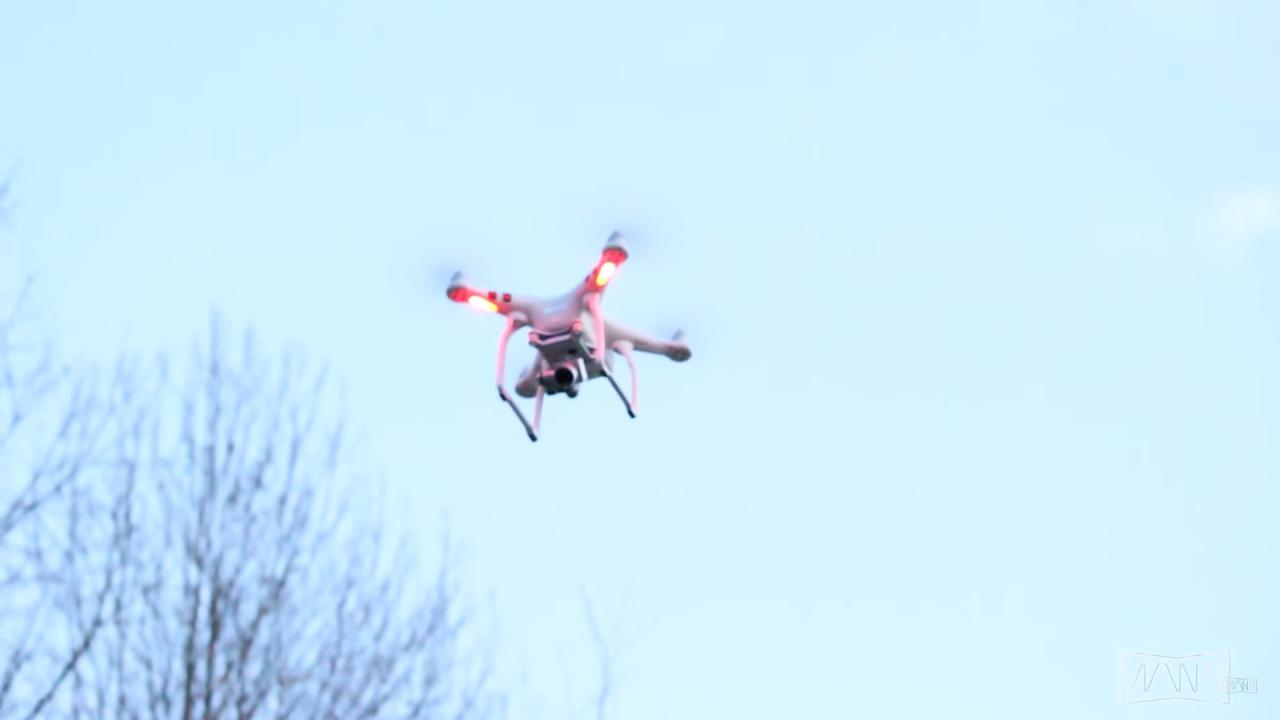Drone: (419, 220, 711, 457)
